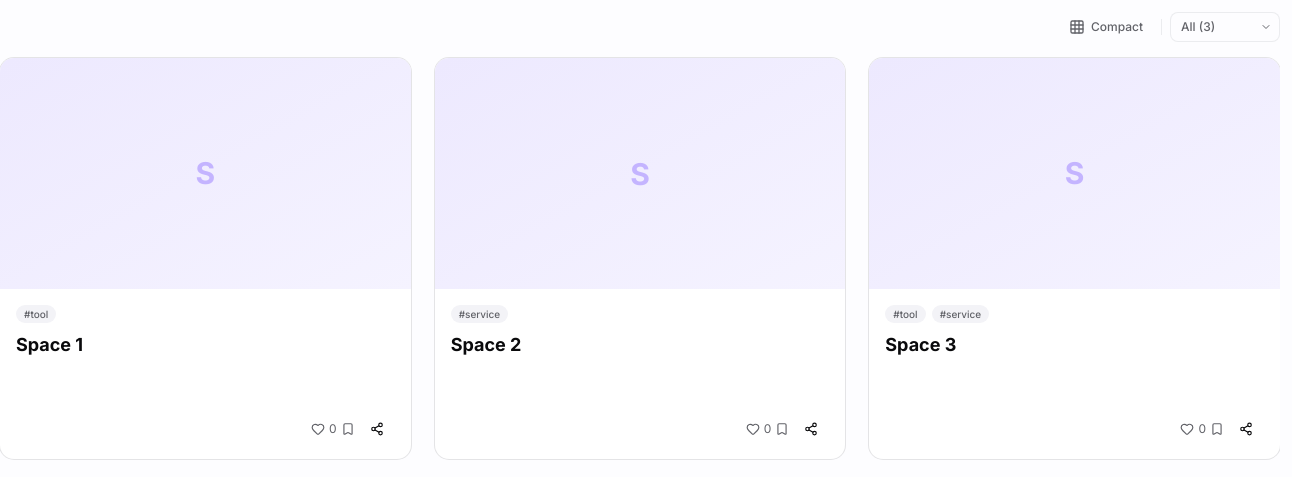
SpaceGrid › compact toggle › switches to compact view on toggle click
Click the button titled "Compact view". click: (1106, 27)
box: [1059,13,1153,41]
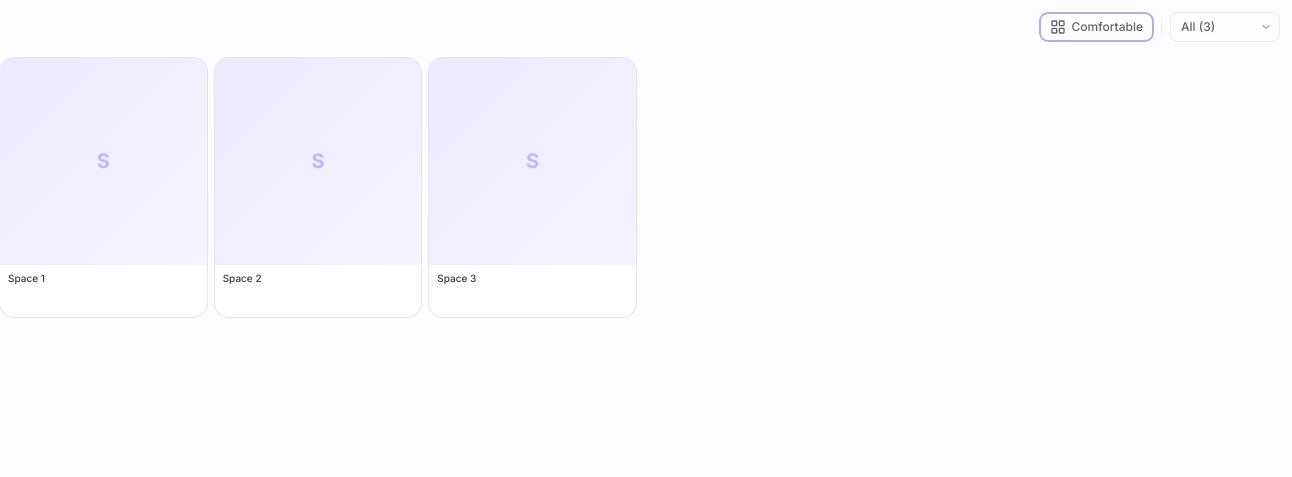
Expected: the button titled "Comfortable view" is shown, [1040,13,1153,41]
